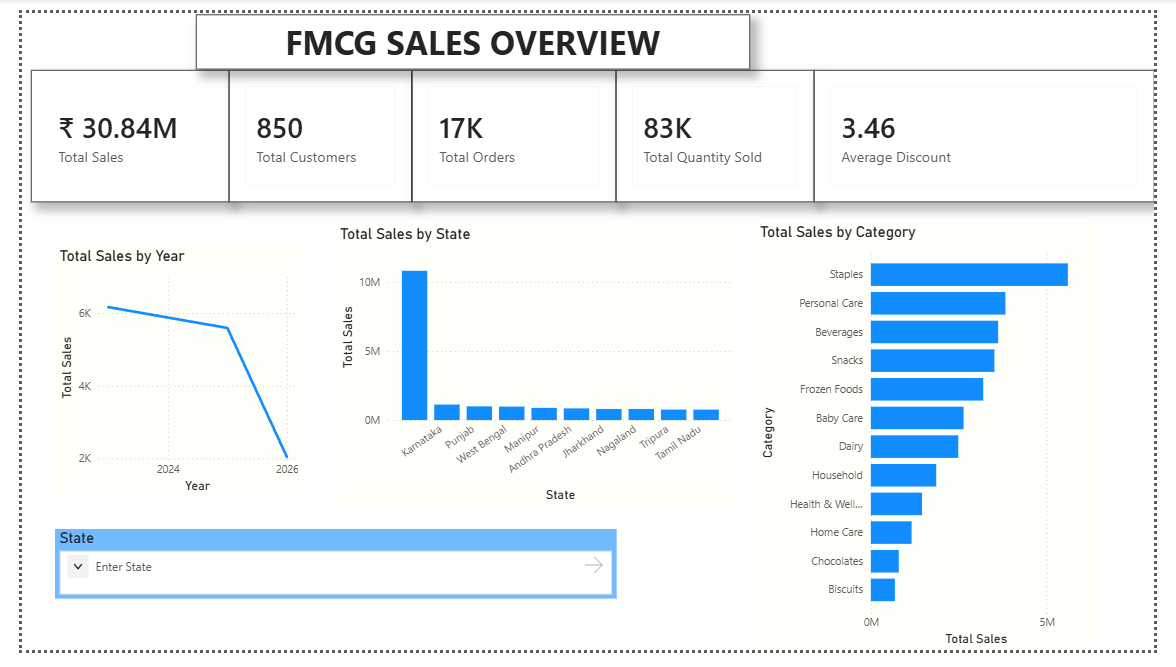

The dashboard page shown, as its layout file describes it:
{"tool":"powerbi","page":{"name":"Sales_Overview","canvas":[1280,720],"ordinal":0},"visuals":[{"type":"cardVisual","fields":{"Data":["fact_sales.Total Sales"]},"box":[10.2,64.4,223.7,149.2],"z":0},{"type":"cardVisual","fields":{"Data":["fact_sales.Total Customers"]},"box":[233.9,64.4,206.8,149.2],"z":1},{"type":"cardVisual","fields":{"Data":["fact_sales.Total Orders"]},"box":[440.7,64.4,230.5,149.2],"z":2},{"type":"cardVisual","fields":{"Data":["fact_sales.Total Quantity Sold"]},"box":[671.2,64.4,223.7,149.2],"z":3},{"type":"cardVisual","fields":{"Data":["fact_sales.Average Discount"]},"box":[894.9,64.4,384.7,149.2],"z":4},{"type":"lineChart","fields":{"Category":["dim_time.Year"],"Y":["fact_sales.Total Sales"]},"box":[37.8,264.6,279.7,281.6],"z":5},{"type":"columnChart","fields":{"Category":["dim_customers.State"],"Y":["fact_sales.Total Sales"]},"box":[354.9,239.2,452.9,317.6],"z":6},{"type":"textSlicer","fields":{"Values":["dim_customers.State"]},"box":[37.8,582.2,634.4,78.9],"z":7},{"type":"clusteredBarChart","fields":{"Category":["dim_products.Category"],"Y":["fact_sales.Total Sales"]},"box":[829.4,237.3,382.4,482.4],"z":9},{"type":"textbox","box":[196,2,626,62],"z":10}]}

Visuals, with their boxes in screenshot pixels (x1, y1, x2, y2), scaled from the page's 1280x720 canvas onto the 1176x667 screenshot:
cardVisual - fact_sales.Total Sales: left=9, top=60, right=215, bottom=198
cardVisual - fact_sales.Total Customers: left=215, top=60, right=405, bottom=198
cardVisual - fact_sales.Total Orders: left=405, top=60, right=617, bottom=198
cardVisual - fact_sales.Total Quantity Sold: left=617, top=60, right=822, bottom=198
cardVisual - fact_sales.Average Discount: left=822, top=60, right=1175, bottom=198
lineChart - dim_time.Year x fact_sales.Total Sales: left=35, top=245, right=292, bottom=506
columnChart - dim_customers.State x fact_sales.Total Sales: left=326, top=222, right=742, bottom=516
textSlicer - dim_customers.State: left=35, top=539, right=618, bottom=612
clusteredBarChart - dim_products.Category x fact_sales.Total Sales: left=762, top=220, right=1113, bottom=666
textbox: left=180, top=2, right=755, bottom=59
